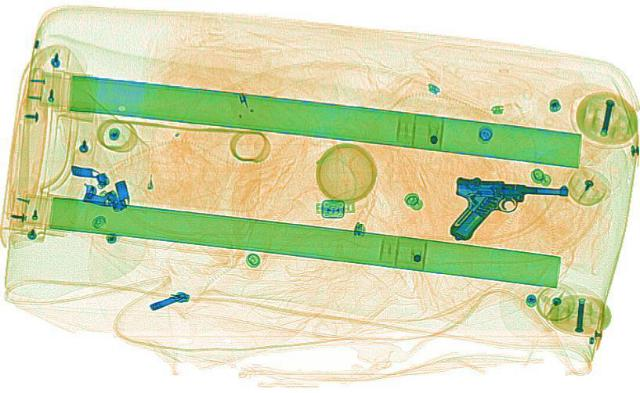Gun: (438, 174, 570, 249)
